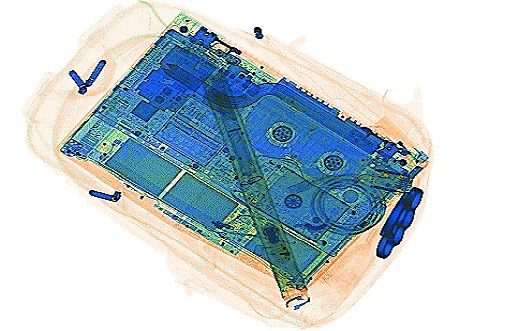lighter: (370, 112, 427, 165), (252, 242, 292, 260)
